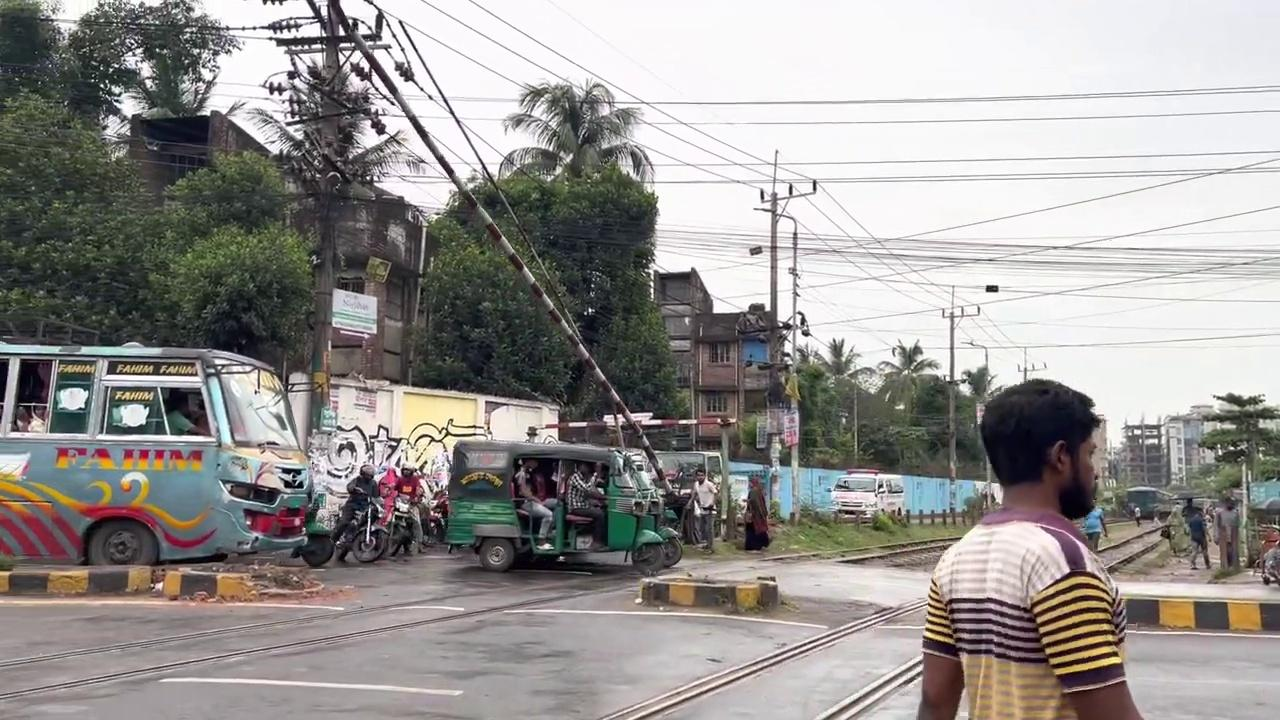Fence: (916, 378, 1145, 719), (685, 467, 718, 554), (741, 475, 770, 551)
Garbage: (332, 2, 682, 506), (947, 283, 998, 521)
Motorcycle: (597, 516, 1181, 717)
Railroad-crossing: (501, 75, 654, 182)
Rickshaw: (0, 339, 314, 566), (444, 438, 678, 573)
